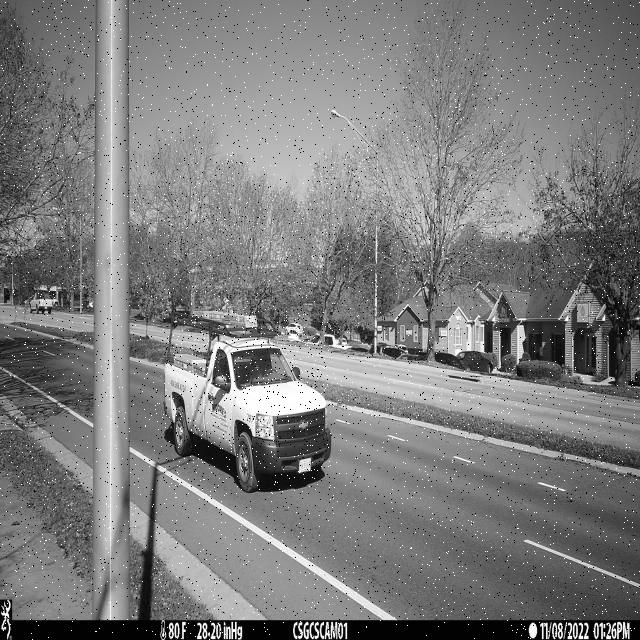Pickup: (164, 308, 331, 494)
